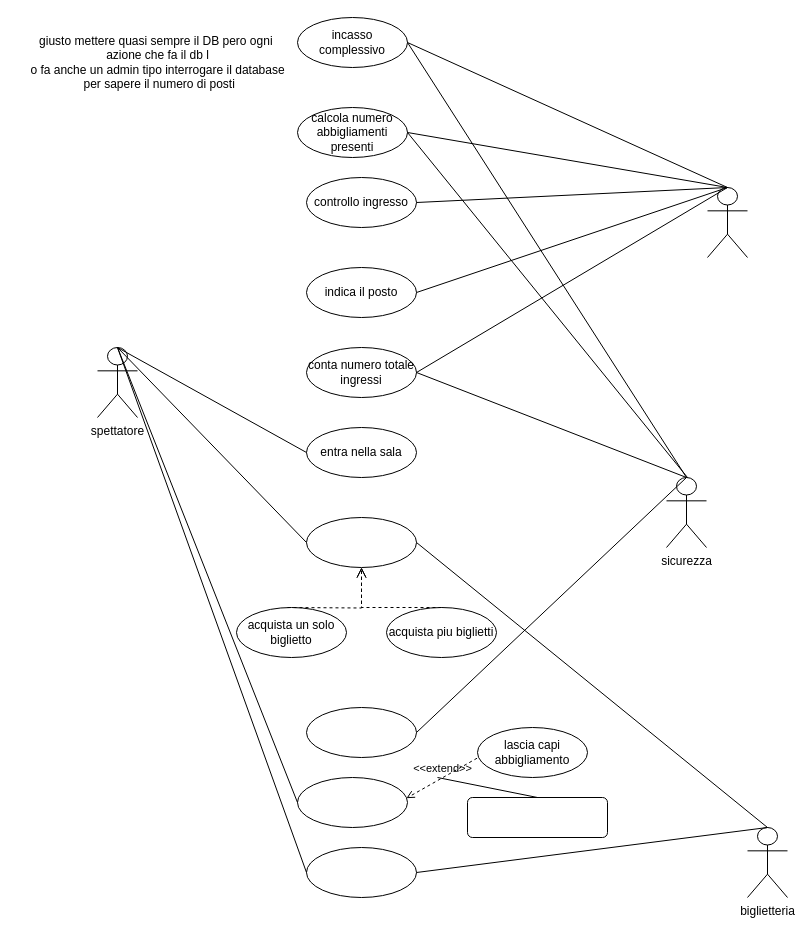
This 812x936 diagram has some shape labels left out. The centre of each missing label's shape, as x and y in pixels:
"acquista biglietto" goes at (x=361, y=542).
"acquista slot per abbigliamento" goes at (x=361, y=872).
"condizione: compra slot" goes at (x=537, y=817).
"controlla biglietto" goes at (x=361, y=732).
"DB" goes at (x=727, y=222).
"lascia 1 capo abbigliamento" goes at (x=352, y=802).
